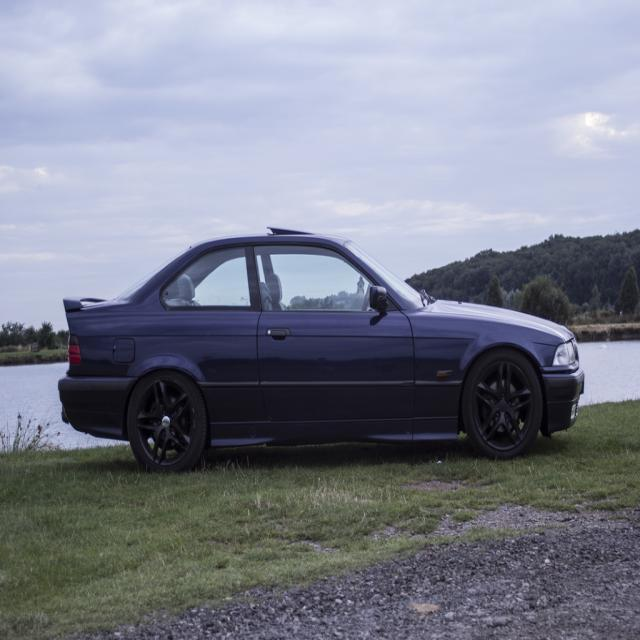car: (55, 225, 585, 471)
